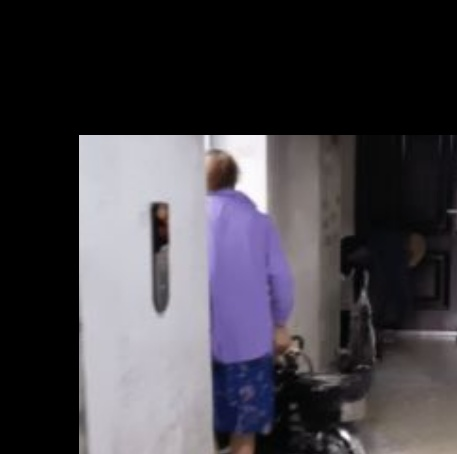ebike: (264, 337, 370, 453)
person: (208, 150, 296, 454)
